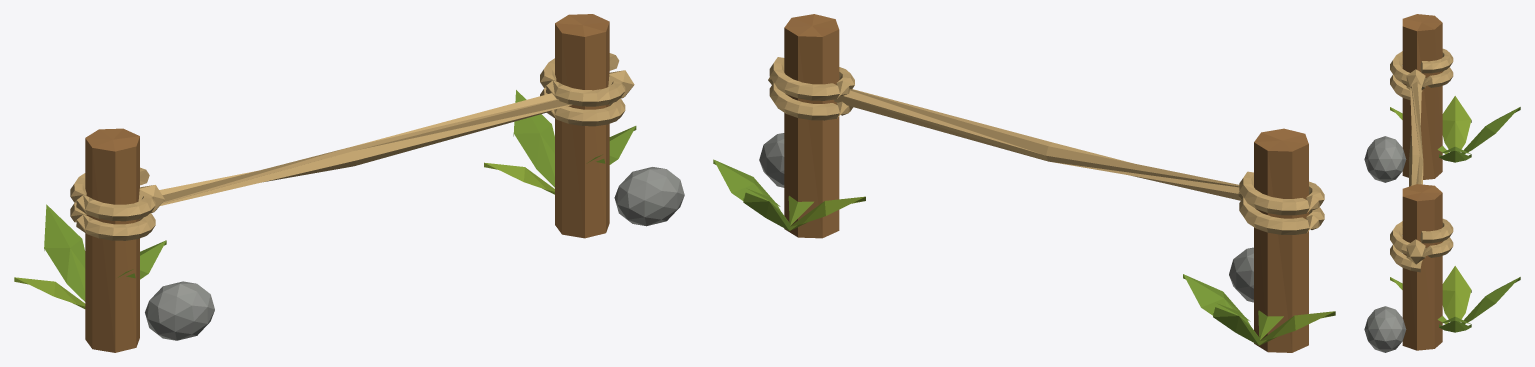
File: 05_rope_tripline.glb
3 renders of one model, left to right at view 1: azimuth 30°, elevation 25°; view 2: azimuth 150°, elevation 25°; view 3: azimuth 270°, elevation 25°, orthographic. The views are drawn at different scales.
Parts seen in each view (by area): view 1: Static; view 2: Static; view 3: Static.
Boxes of the visible parts, bbox=[...] form: Static: bbox=[14, 14, 684, 352]; Static: bbox=[713, 14, 1335, 352]; Static: bbox=[1364, 14, 1520, 352].
Size of the model in its own units: 1.91 by 0.59 by 0.559.
